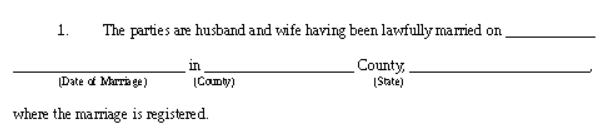textline: (407, 59, 592, 75), (11, 59, 188, 75), (202, 59, 356, 75), (503, 25, 597, 41)
